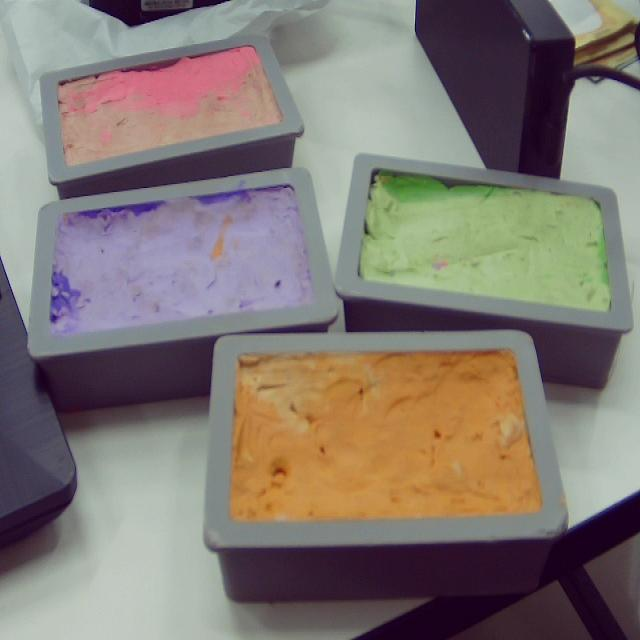block: (200, 328, 569, 604), (25, 165, 341, 412), (337, 153, 634, 391), (38, 34, 306, 202)
